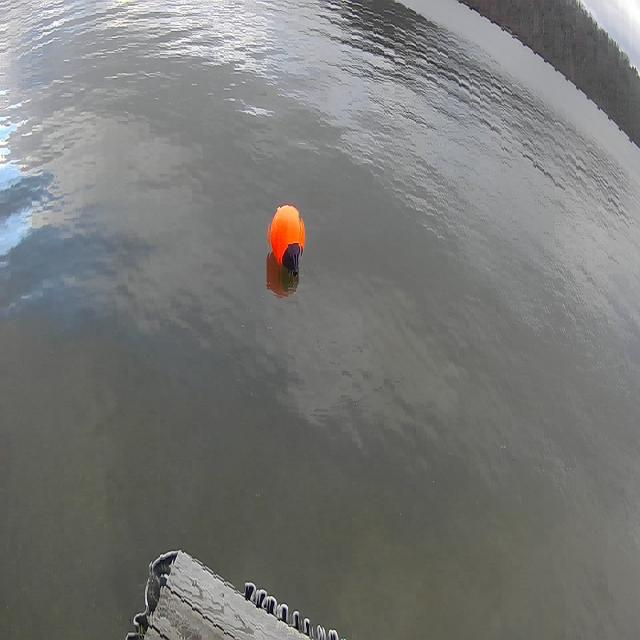Buoy: (261, 186, 314, 284)
